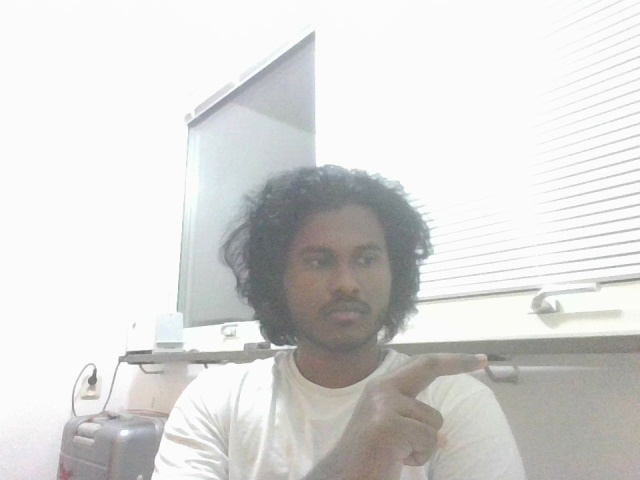no: (329, 351, 502, 478)
